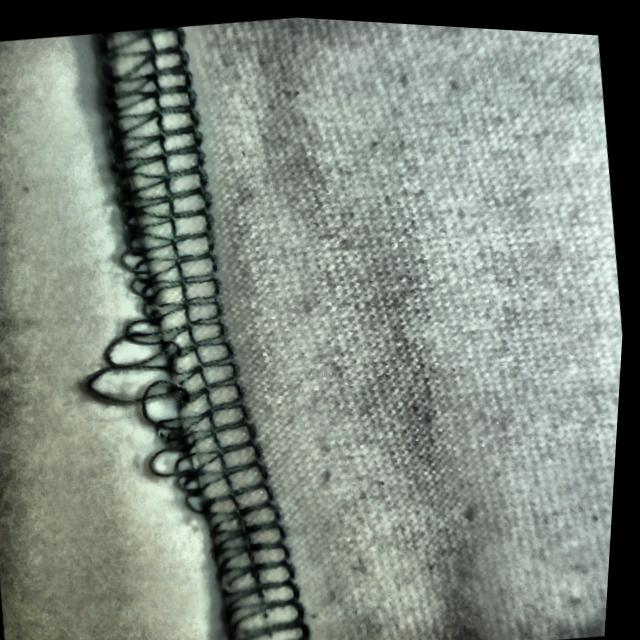Stitch: (62, 208, 290, 529)
